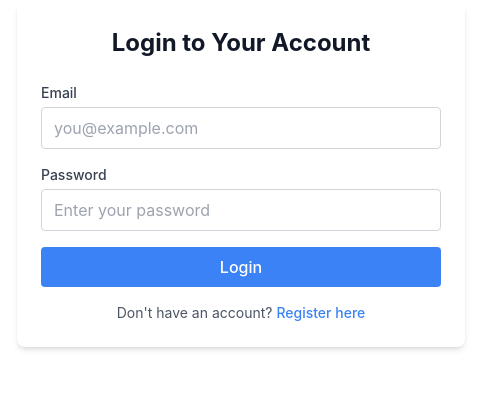
Scenario: LoginForm › validates email field is required
Click the button "Login" at (241, 267), box [41,247,441,287]
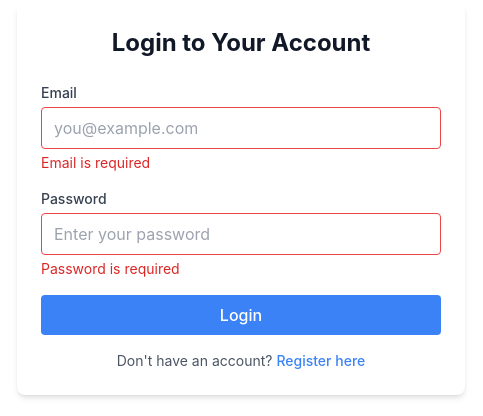
Expected: the text "Email is required" is shown, [41,154,150,171]
